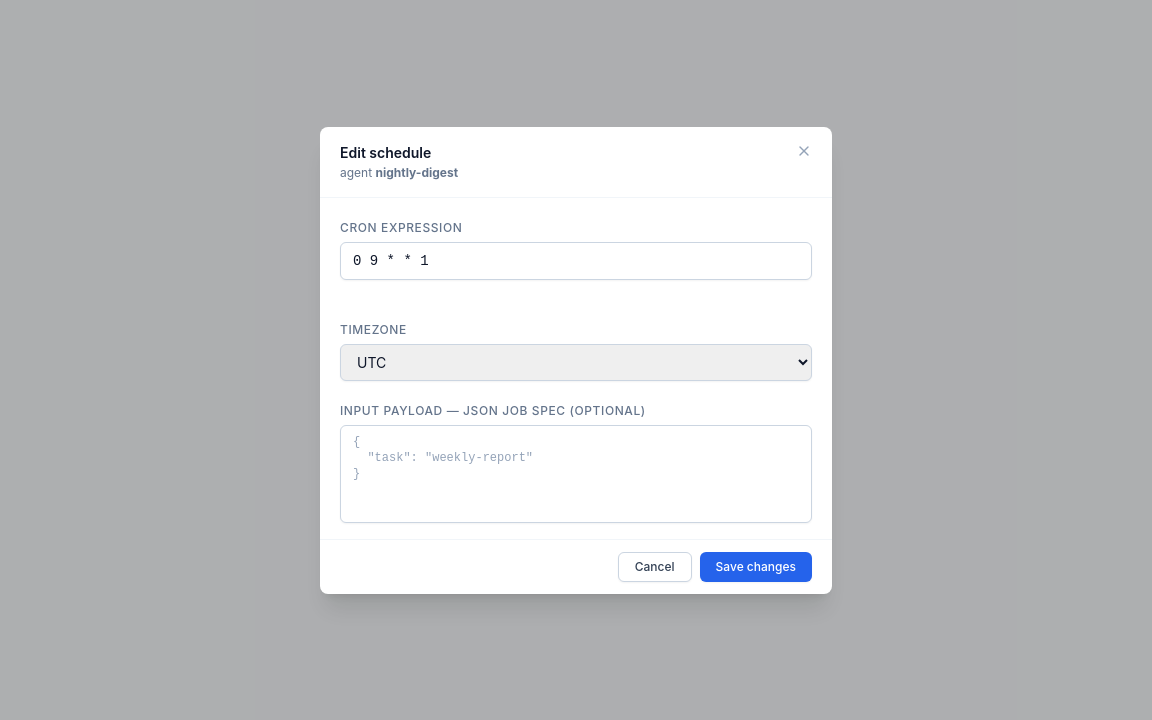
EditScheduleModal › blocks save on a cron that is not five fields, and says how many it saw
Type "0 9 *" into the field with test id "edit-schedule-cron" at (576, 260), box [340,242,812,280]
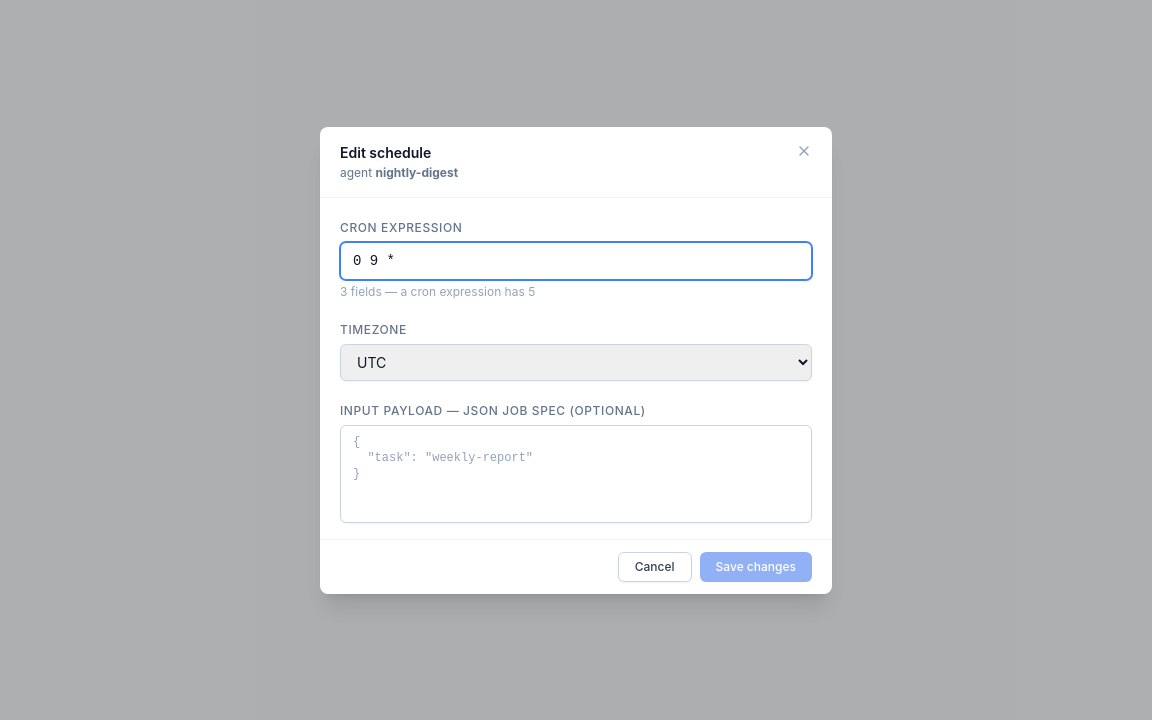
Expected: the button with test id "edit-schedule-save" is disabled, [700,552,812,582]
Expected: the text "3 fields — a cron expression has 5" is shown, [340,284,535,298]
